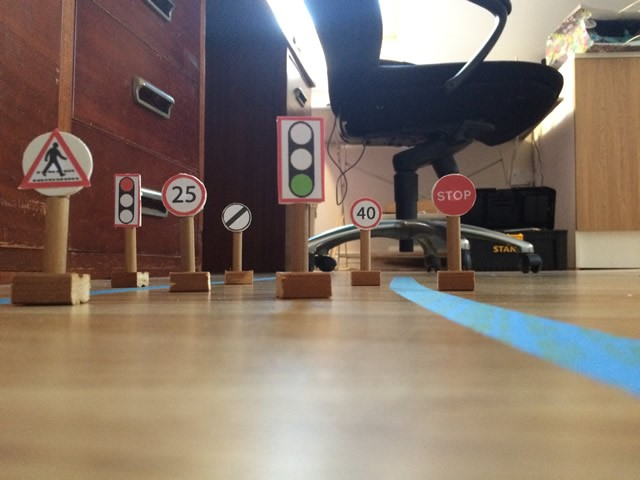Full Speed: (220, 201, 252, 232)
Green Traffic Light: (273, 114, 326, 206)
Person Crossing: (21, 131, 94, 196)
Red Traffic Light: (111, 172, 144, 229)
Speed Limit 25: (162, 173, 208, 214)
Speed Limit 40: (348, 197, 384, 233)
Stop Sign: (432, 173, 477, 216)
